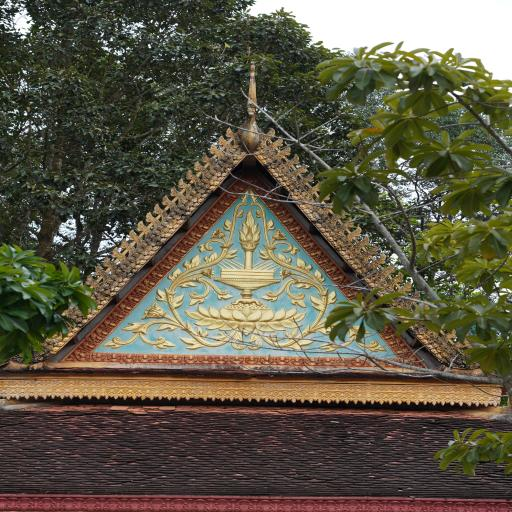hoa: (140, 304, 170, 320), (198, 266, 218, 280), (210, 227, 228, 241), (279, 267, 295, 281), (270, 229, 287, 242)
la: (403, 290, 422, 304), (224, 244, 238, 262), (221, 216, 234, 231), (236, 189, 249, 203), (265, 217, 277, 231), (247, 191, 262, 202), (237, 209, 248, 221), (256, 209, 264, 221)
lua: (236, 59, 266, 150), (237, 211, 261, 254), (97, 250, 116, 272), (440, 326, 460, 346), (178, 334, 202, 350), (216, 133, 236, 152), (448, 334, 470, 351), (298, 169, 316, 188), (313, 187, 333, 204), (110, 246, 128, 264), (225, 126, 243, 144), (369, 250, 387, 268), (307, 296, 325, 314), (168, 292, 186, 310), (92, 263, 109, 282), (143, 210, 160, 229), (284, 323, 301, 342), (312, 324, 335, 338), (345, 324, 368, 338), (352, 234, 372, 250), (154, 321, 180, 333), (84, 274, 101, 292), (149, 201, 165, 220), (208, 143, 227, 159), (337, 216, 356, 232), (136, 218, 151, 238), (288, 338, 313, 350), (305, 179, 319, 200), (118, 236, 135, 253), (125, 227, 142, 244), (166, 186, 183, 203), (329, 208, 347, 224), (362, 341, 385, 353), (295, 255, 312, 271), (364, 242, 382, 257), (182, 256, 204, 268), (120, 320, 142, 332), (161, 195, 176, 212), (322, 198, 336, 216), (348, 224, 362, 242), (152, 339, 174, 350), (290, 162, 306, 177), (382, 262, 398, 277), (390, 270, 406, 285), (399, 277, 414, 293), (183, 168, 200, 182), (192, 158, 206, 175), (174, 176, 188, 192), (324, 289, 338, 305), (320, 339, 336, 353), (212, 291, 234, 301), (102, 340, 124, 350), (280, 143, 294, 158), (153, 288, 168, 302), (187, 297, 206, 308), (192, 326, 208, 339), (198, 151, 213, 164), (275, 251, 290, 264), (310, 270, 325, 283), (292, 296, 308, 308), (204, 252, 220, 264), (168, 267, 181, 281), (262, 293, 278, 304), (210, 331, 226, 342), (266, 333, 282, 344), (178, 280, 195, 290), (263, 127, 276, 140), (290, 152, 300, 168), (271, 136, 283, 148), (288, 244, 300, 256)
